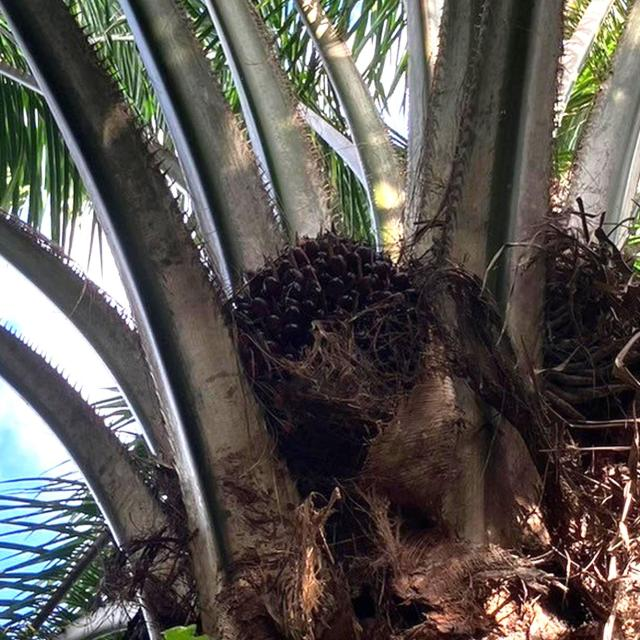ripe: (228, 228, 431, 447)
